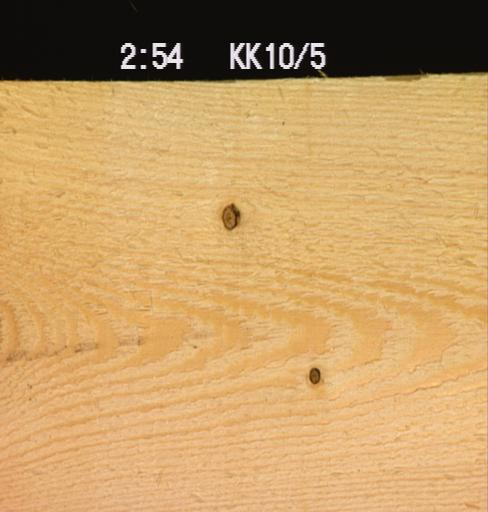dry_knot: (219, 201, 241, 231), (307, 365, 321, 385)
